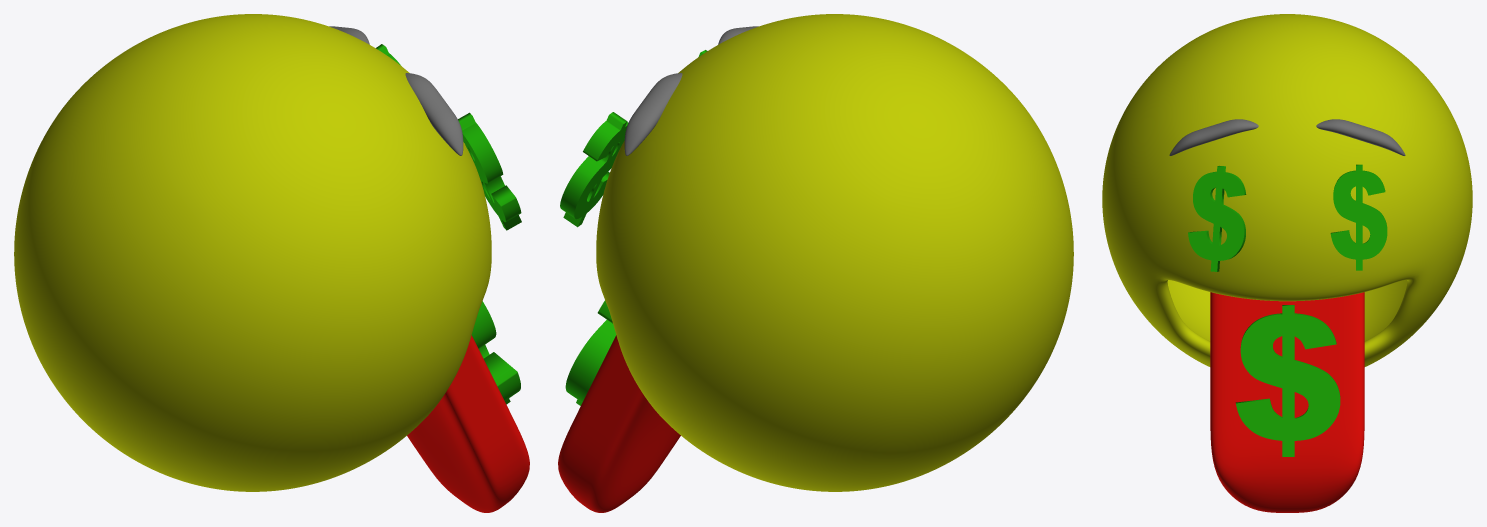
Rendered from money_emoji.glb.
3 renders of one model, left to right at view 1: azimuth 30°, elevation 25°; view 2: azimuth 150°, elevation 25°; view 3: azimuth 270°, elevation 25°, orthographic. The views are drawn at different scales.
Parts seen in each view (by area): view 1: kepala, lidah, mata kiri, alis, simbol lidah; view 2: kepala, lidah, mata kanan, alis, simbol lidah; view 3: kepala, lidah, simbol lidah, mata kiri, mata kanan, alis.
Part boxes in pixels (x1,y1,x2,y2): kepala: [14, 14, 491, 491]; lidah: [407, 335, 529, 512]; mata kiri: [458, 112, 521, 230]; alis: [329, 26, 463, 155]; simbol lidah: [471, 301, 520, 404]; kepala: [596, 14, 1073, 491]; lidah: [558, 335, 680, 512]; mata kanan: [560, 112, 628, 227]; alis: [624, 26, 758, 155]; simbol lidah: [565, 300, 616, 405]; kepala: [1102, 14, 1472, 366]; lidah: [1210, 292, 1364, 512]; simbol lidah: [1235, 305, 1340, 456]; mata kiri: [1188, 166, 1246, 271]; mata kanan: [1330, 164, 1387, 270]; alis: [1169, 119, 1405, 155].
Bounding box in the file's own units: 2.21 × 2.36 × 1.98.
